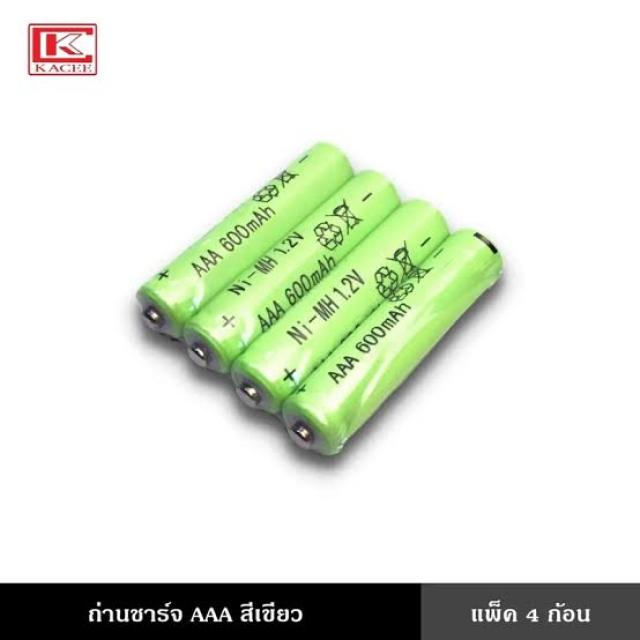battery: (98, 94, 562, 502)
